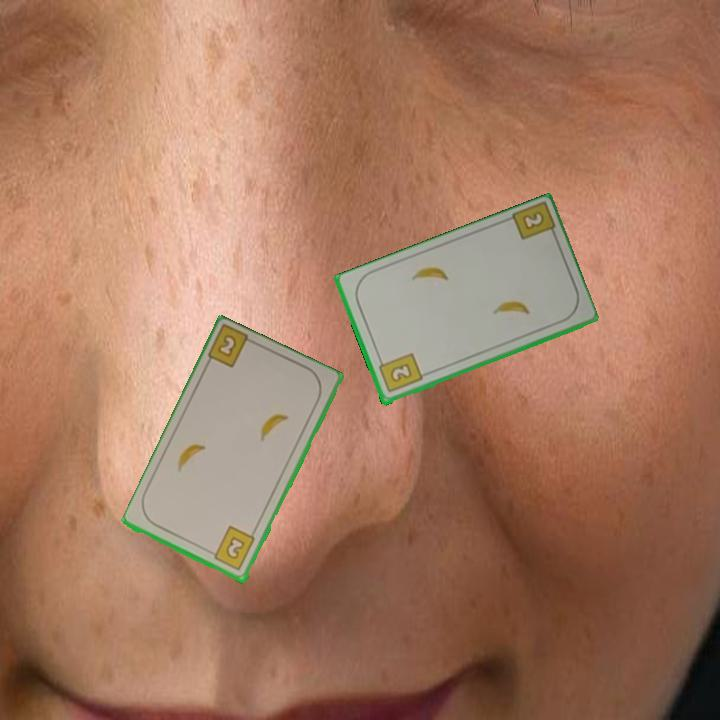2b: (206, 523, 258, 574), (375, 350, 425, 396), (507, 200, 560, 243), (214, 331, 240, 360)
